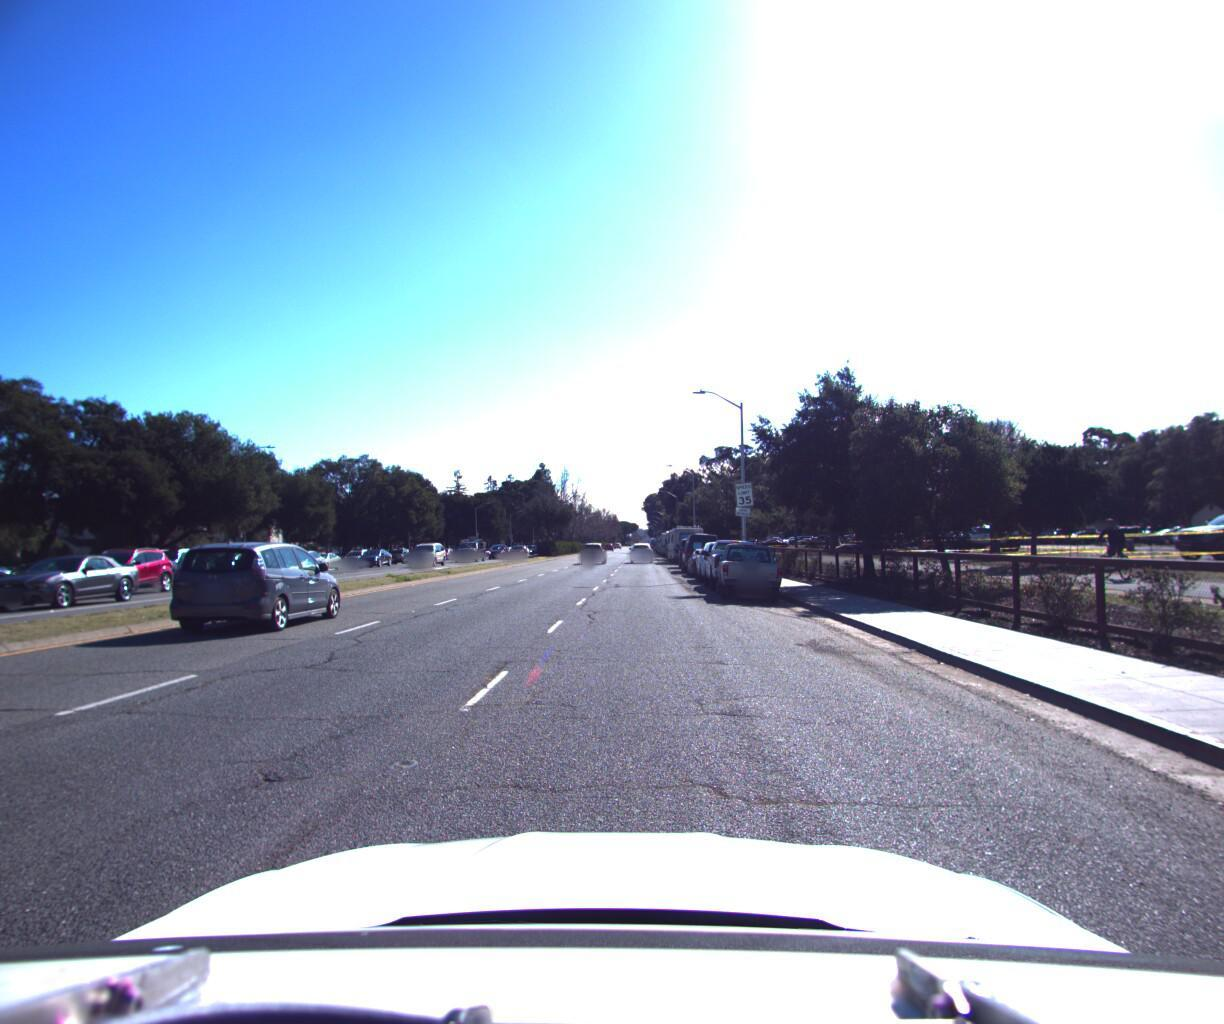bicycle: (1081, 510, 1146, 575)
car: (154, 523, 351, 638), (75, 543, 197, 596), (709, 534, 790, 601), (695, 531, 776, 588), (687, 532, 755, 580), (674, 525, 723, 569), (682, 540, 732, 573), (405, 536, 447, 563), (450, 532, 486, 557), (577, 536, 607, 560), (628, 537, 651, 557)
other_vehicle: (660, 518, 705, 557)
